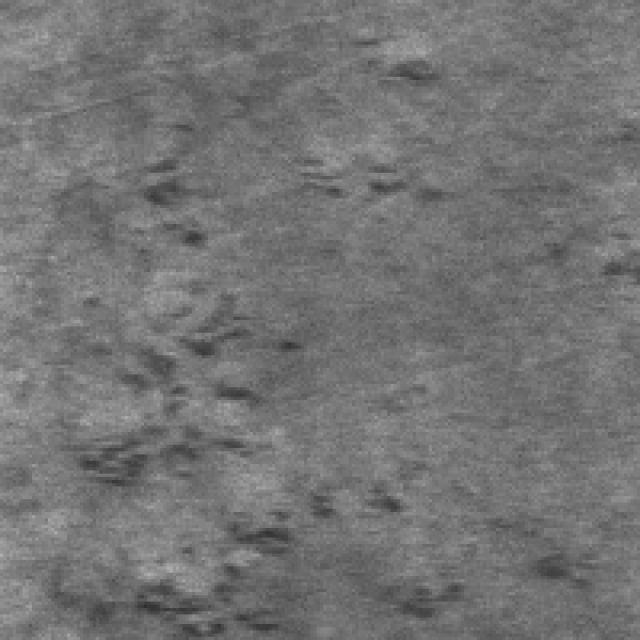rolled-in_scale: (58, 83, 284, 637), (297, 461, 508, 621), (285, 122, 454, 208)
